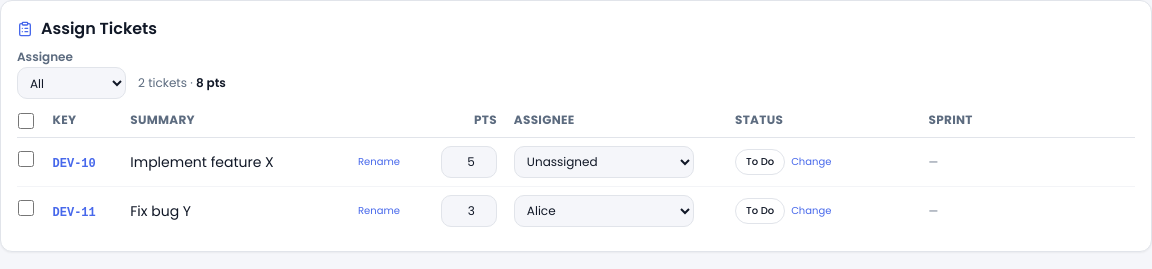
Scenario: AssignmentList — v1.15 assignee filter + points summary › filters the ticket list by assignee and updates the points total
Check: the text "Implement feature X" is shown, box [130,152,274,172]
Check: the text "8 pts" is shown, box [196,74,226,91]
Filter to Alice (only DEV-11, 3 pts)
Select "Alice" in the dropdown named "Filter tickets by assignee" at (72, 83), box [17,67,126,99]
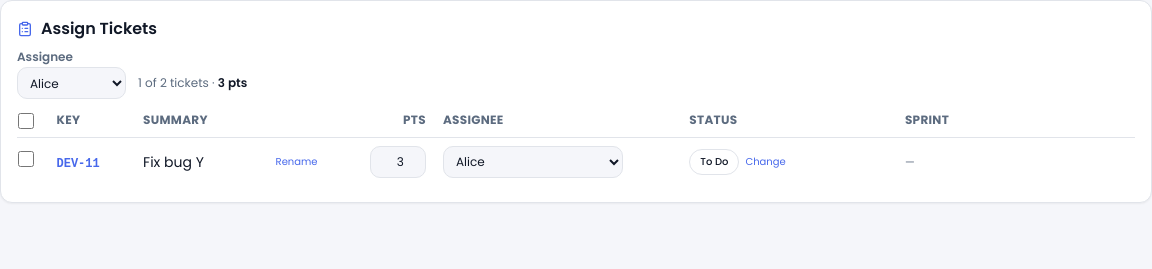
Check: the text "Implement feature X" is gone
Check: the text "1 of 2 tickets · 3 pts" is shown, box [138,75,247,91]
Check: the text "3 pts" is shown, box [218,74,247,91]
